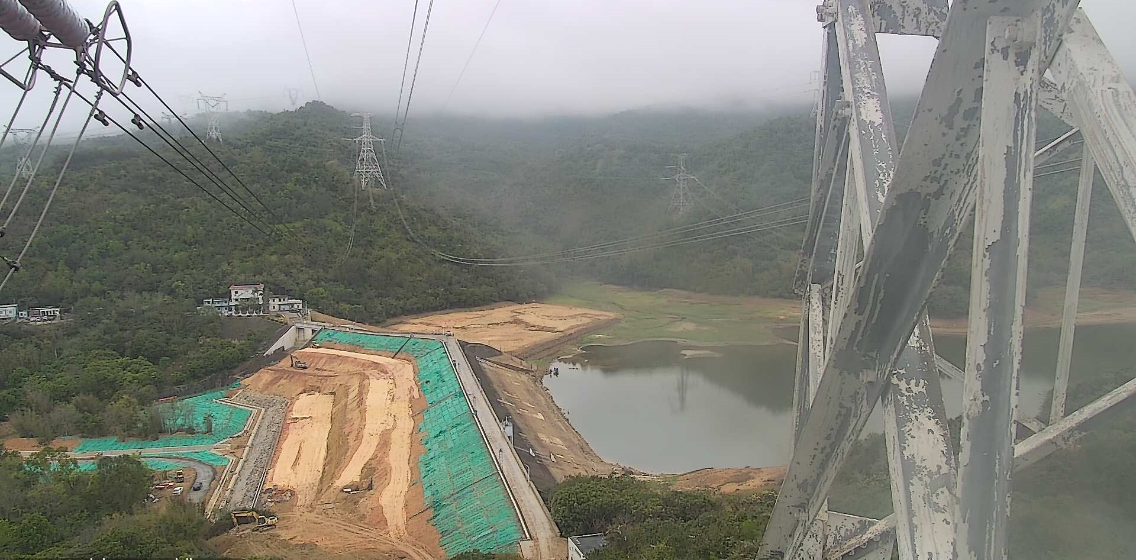山间云雾: (0, 0, 1135, 150), (387, 152, 778, 337)
